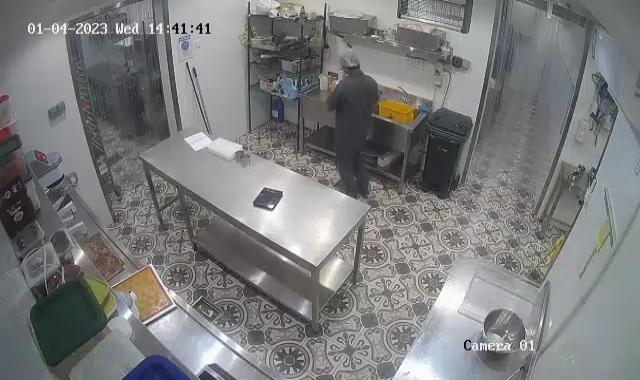hairnet: (339, 50, 362, 72)
